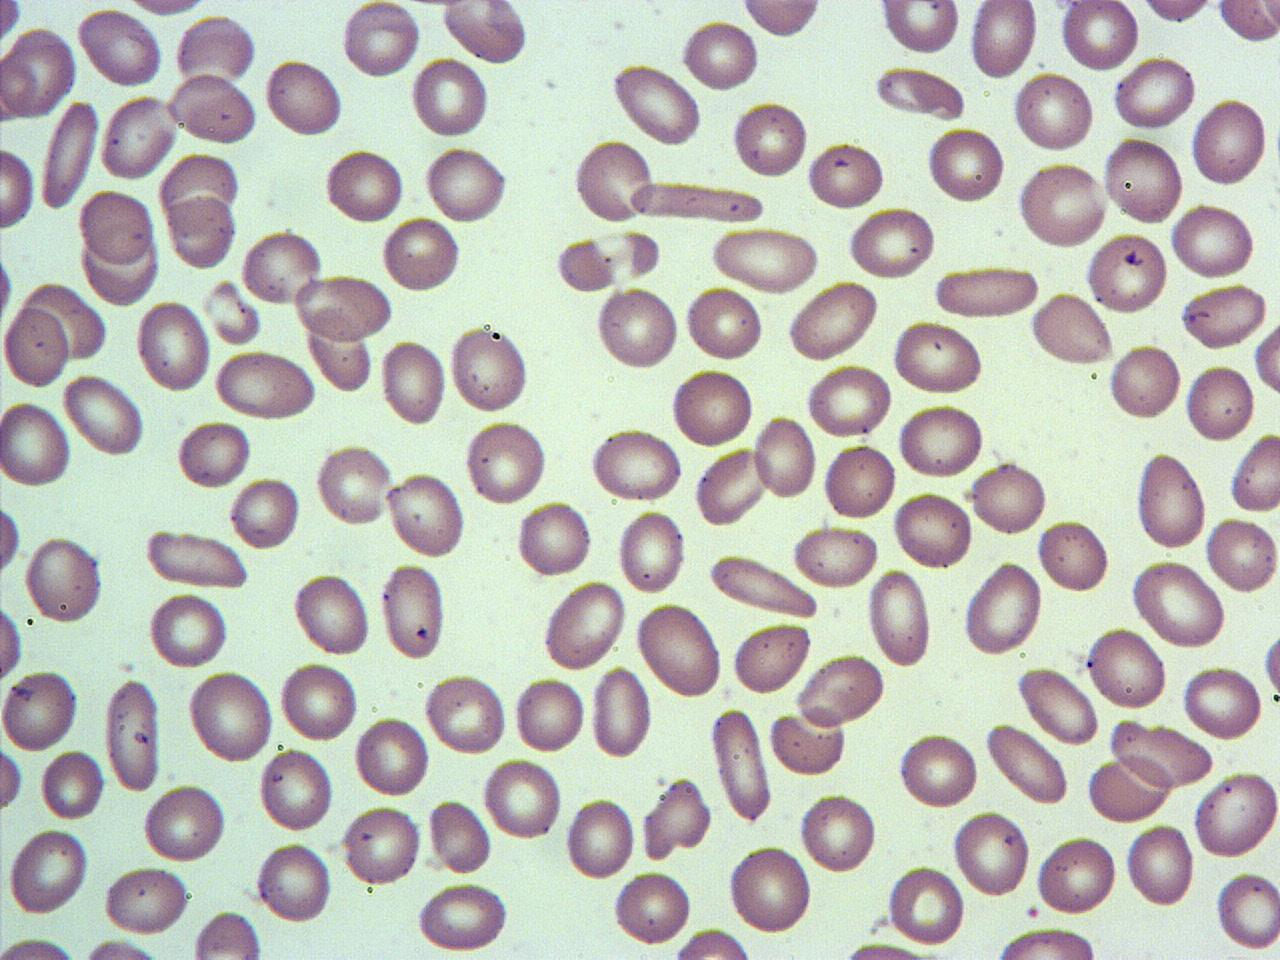RBC: (1130, 556, 1228, 650), (634, 599, 724, 698), (726, 840, 814, 937), (1016, 159, 1108, 250), (608, 60, 704, 147), (187, 668, 274, 764), (1191, 769, 1279, 861), (541, 578, 627, 672), (1101, 132, 1185, 228), (962, 558, 1042, 658), (708, 549, 820, 620), (706, 224, 821, 293), (570, 136, 659, 225), (889, 318, 987, 398), (463, 417, 549, 508), (6, 825, 91, 917), (448, 322, 531, 416), (0, 23, 79, 121), (594, 284, 680, 374), (385, 468, 468, 561), (23, 532, 105, 626), (414, 878, 512, 956), (588, 426, 686, 504), (950, 807, 1032, 900), (786, 280, 880, 361), (212, 348, 316, 421), (708, 706, 774, 821), (1083, 229, 1169, 317), (844, 204, 940, 282), (1134, 449, 1208, 550), (1189, 96, 1269, 189), (142, 781, 229, 866), (135, 297, 212, 393), (1084, 624, 1168, 712), (98, 93, 180, 183), (37, 97, 101, 212), (481, 754, 564, 842), (984, 722, 1073, 804), (1108, 722, 1212, 792), (257, 744, 336, 836), (1015, 663, 1101, 747), (61, 371, 145, 457), (1035, 832, 1119, 918), (75, 7, 164, 88), (1169, 200, 1259, 280), (1, 665, 81, 755), (254, 837, 334, 927), (424, 672, 508, 757), (313, 441, 395, 528), (866, 566, 934, 670), (1012, 71, 1097, 154), (340, 803, 423, 888), (278, 658, 360, 744), (798, 788, 878, 876), (292, 570, 372, 658), (794, 652, 886, 728), (670, 367, 754, 450), (891, 488, 974, 572), (410, 54, 490, 141), (102, 679, 164, 791), (378, 561, 448, 660), (563, 792, 639, 883), (896, 728, 980, 810), (886, 862, 966, 948), (0, 397, 73, 491), (168, 72, 260, 146), (896, 402, 983, 480), (353, 712, 431, 799), (804, 362, 893, 438), (295, 273, 393, 342), (102, 863, 192, 938), (1180, 662, 1264, 742), (970, 456, 1050, 540), (238, 229, 324, 307), (1027, 290, 1113, 368), (1123, 820, 1197, 910), (263, 57, 344, 139), (324, 146, 406, 227), (684, 283, 766, 364), (147, 590, 230, 670), (611, 868, 694, 948), (1111, 55, 1197, 132), (926, 124, 1006, 206), (339, 1, 422, 80), (425, 145, 508, 224), (144, 529, 251, 590), (731, 98, 809, 181), (820, 439, 898, 522), (680, 16, 761, 95), (730, 619, 812, 697), (1106, 342, 1184, 424), (173, 11, 258, 86), (382, 216, 463, 294), (1178, 281, 1268, 351), (616, 506, 686, 596), (379, 338, 449, 428), (514, 500, 592, 580), (1203, 514, 1279, 596), (2, 301, 71, 390), (1036, 516, 1112, 596), (1059, 0, 1141, 74), (512, 674, 586, 756), (1184, 360, 1256, 444), (590, 664, 654, 758), (931, 265, 1042, 319), (870, 63, 968, 124), (79, 188, 155, 266), (750, 414, 818, 501), (439, 0, 530, 65), (694, 445, 767, 526), (804, 139, 886, 211), (968, 0, 1039, 83), (1085, 755, 1169, 825), (791, 522, 880, 588), (305, 312, 374, 396), (766, 708, 848, 778), (1213, 866, 1279, 952), (228, 475, 302, 551), (176, 418, 254, 490), (166, 194, 238, 270), (427, 796, 494, 876), (38, 745, 106, 822), (876, 0, 962, 57), (189, 908, 268, 960), (1228, 432, 1278, 514), (986, 926, 1103, 960), (0, 142, 38, 233), (738, 0, 826, 39), (668, 926, 756, 960), (1215, 0, 1279, 45), (1251, 317, 1279, 405), (0, 591, 24, 691), (1134, 0, 1218, 26), (0, 934, 81, 960), (0, 740, 25, 818), (0, 0, 24, 46)
